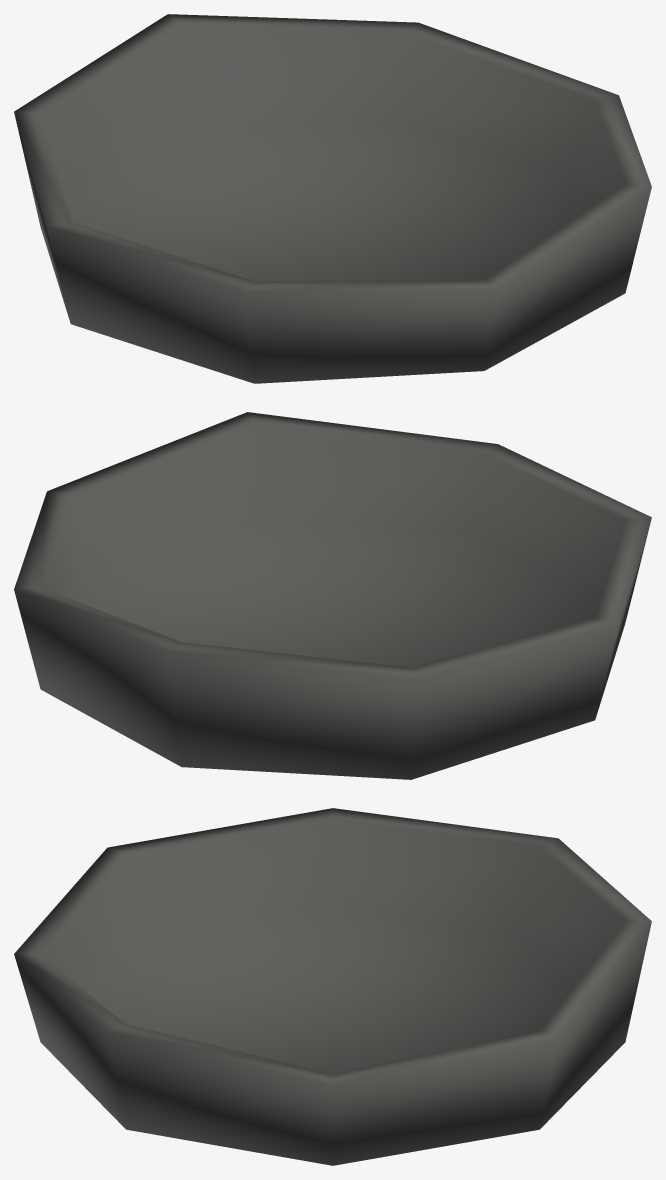
The model's file is rpgpp_ag_plate_metal_01.fbx.
The picture shows the model from 3 angles, top to bottom: view 1: azimuth 30°, elevation 25°; view 2: azimuth 150°, elevation 25°; view 3: azimuth 270°, elevation 25°; orthographic projection. The views are drawn at different scales.
Parts seen in each view (by area): view 1: rpgpp_ag_plate_metal_01; view 2: rpgpp_ag_plate_metal_01; view 3: rpgpp_ag_plate_metal_01.
Part boxes in pixels (x1,y1,x2,y2): rpgpp_ag_plate_metal_01: (14,14,651,383); rpgpp_ag_plate_metal_01: (14,412,651,779); rpgpp_ag_plate_metal_01: (14,808,651,1165).
Bounding box in the file's own units: 0.3219 × 0.0673 × 0.3219.
